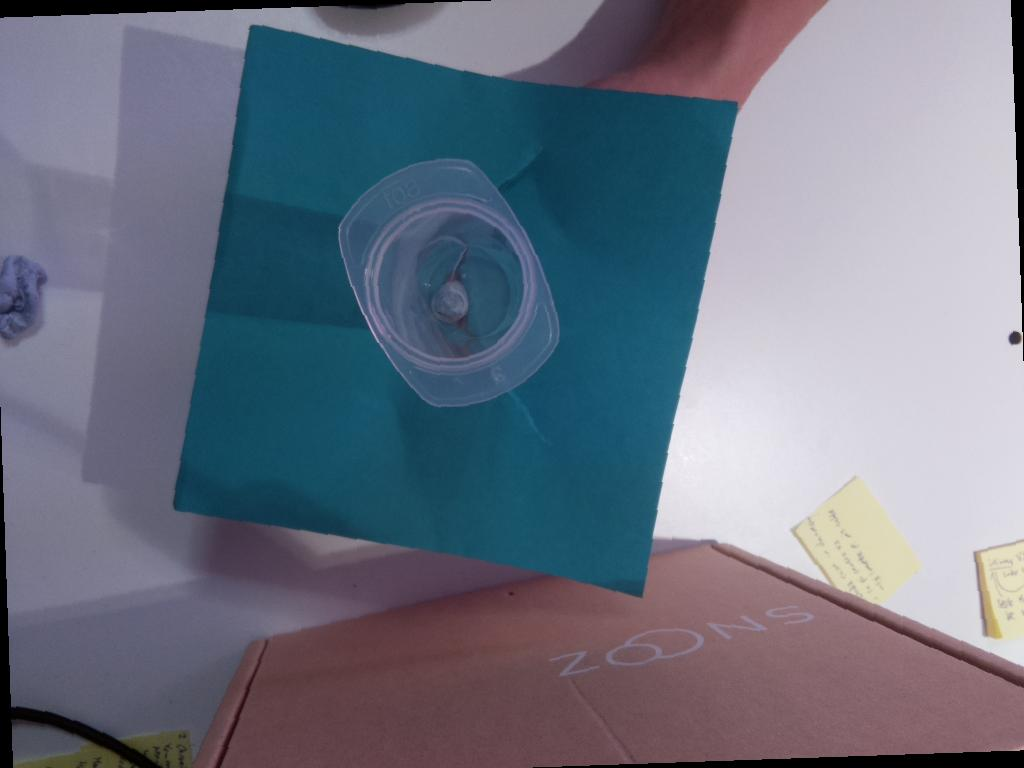clean: (335, 149, 564, 414)
